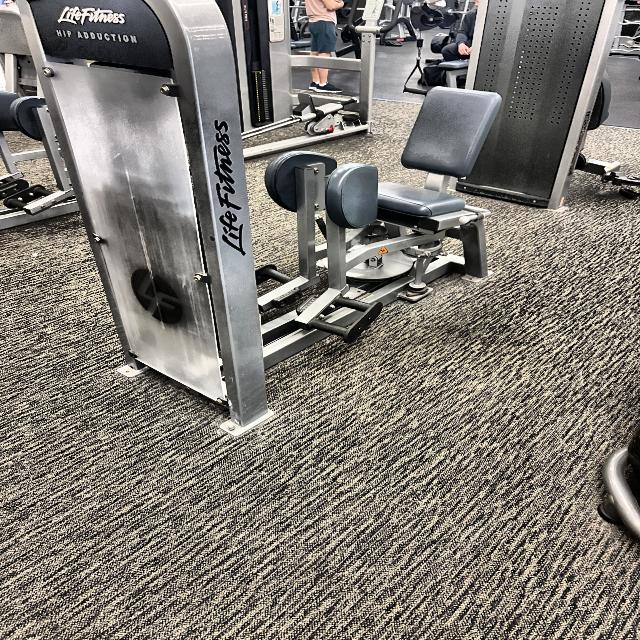hip_adduction_machine: (267, 84, 514, 349), (259, 147, 540, 350), (48, 26, 146, 46)
